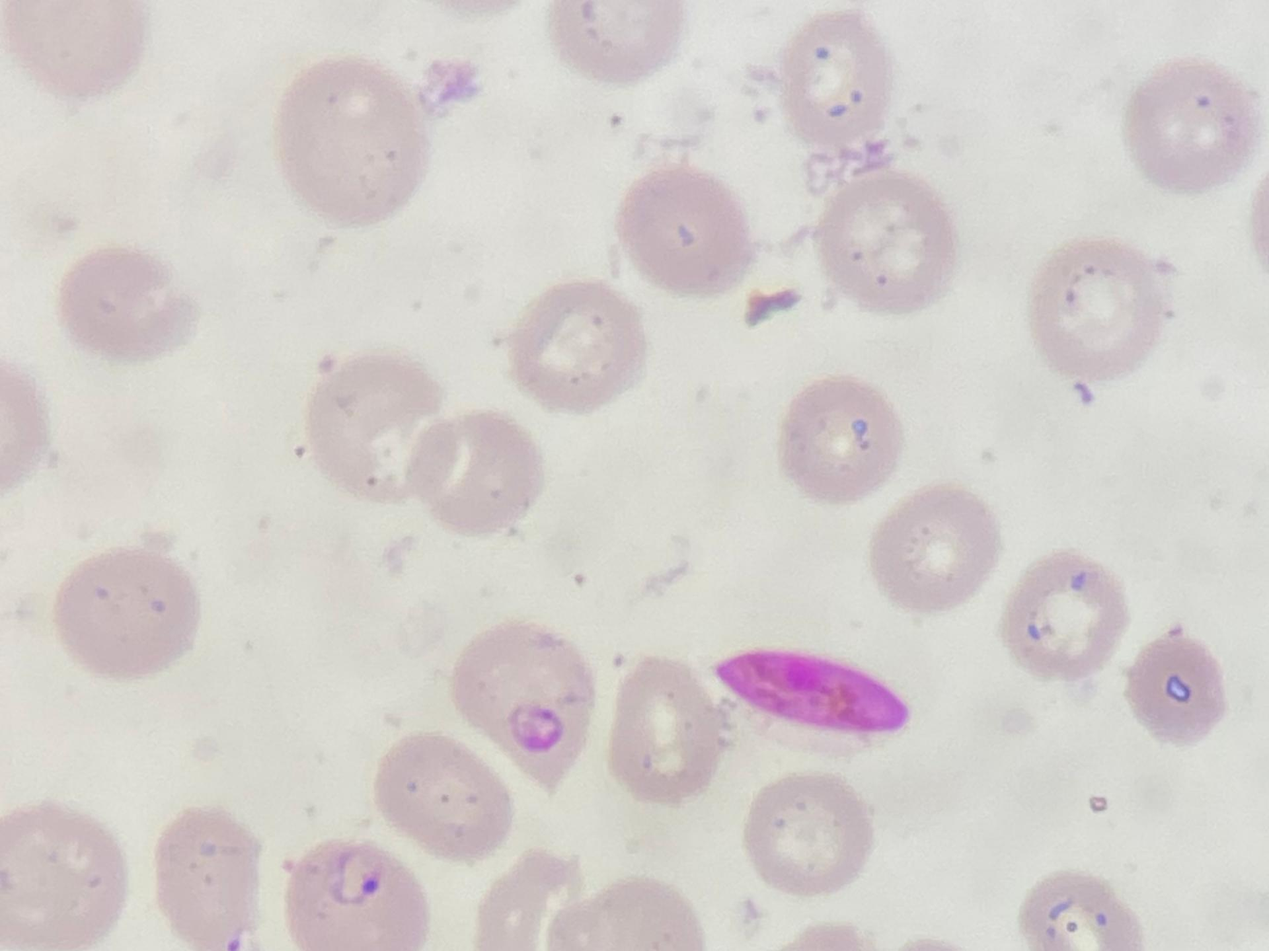Infected: (716, 648, 907, 740), (284, 838, 428, 950)
Uninfected: (274, 57, 429, 222), (449, 621, 596, 791), (303, 351, 449, 500), (1028, 237, 1172, 383), (814, 171, 960, 311), (53, 547, 201, 679), (373, 732, 516, 862), (0, 802, 126, 947), (506, 280, 646, 410), (1125, 57, 1258, 190), (619, 170, 752, 301), (607, 658, 726, 803), (401, 411, 541, 534), (1001, 551, 1128, 681), (868, 484, 997, 611), (778, 12, 894, 147), (153, 809, 264, 949), (57, 245, 192, 360), (780, 375, 904, 500), (744, 774, 872, 894), (1124, 631, 1227, 743)
